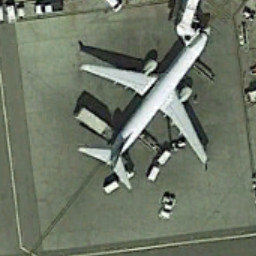Airplane: (57, 21, 229, 203)
